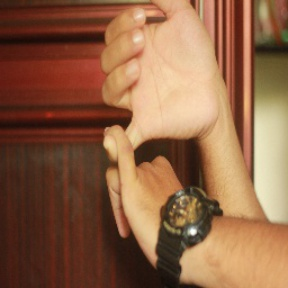S: (101, 4, 236, 230)
